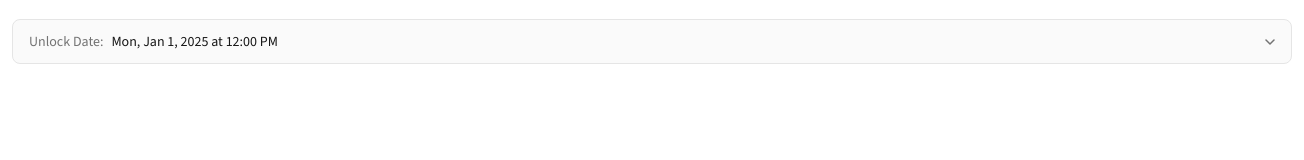
it: CollapsibleDateControl › should collapse when Escape key is pressed
The image size is (1304, 160).
Click the button "Unlock Date: Mon, Jan 1, 2025 at 12:00 PM": (64, 42) [12,19,1292,64]
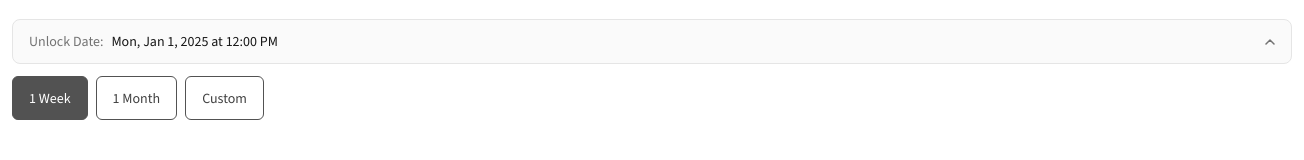
Expected: the button "Unlock Date: Mon, Jan 1, 2025 at 12:00 PM" is expanded
# Press Escape
Press Escape in the button "Unlock Date: Mon, Jan 1, 2025 at 12:00 PM", box [12,19,1292,64]
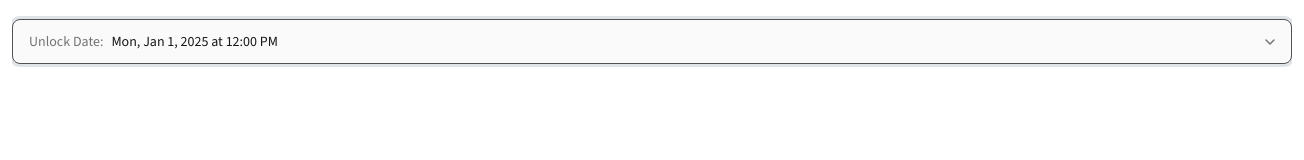
Expected: the button "Unlock Date: Mon, Jan 1, 2025 at 12:00 PM" is collapsed, [12,19,1292,64]
